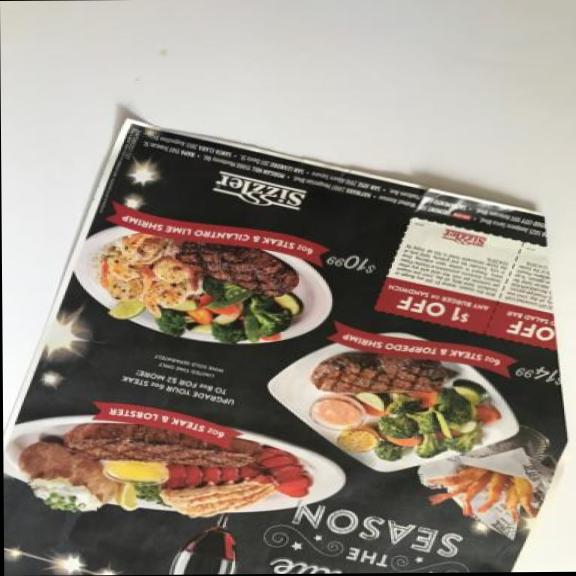Kertas: (1, 114, 576, 573)
